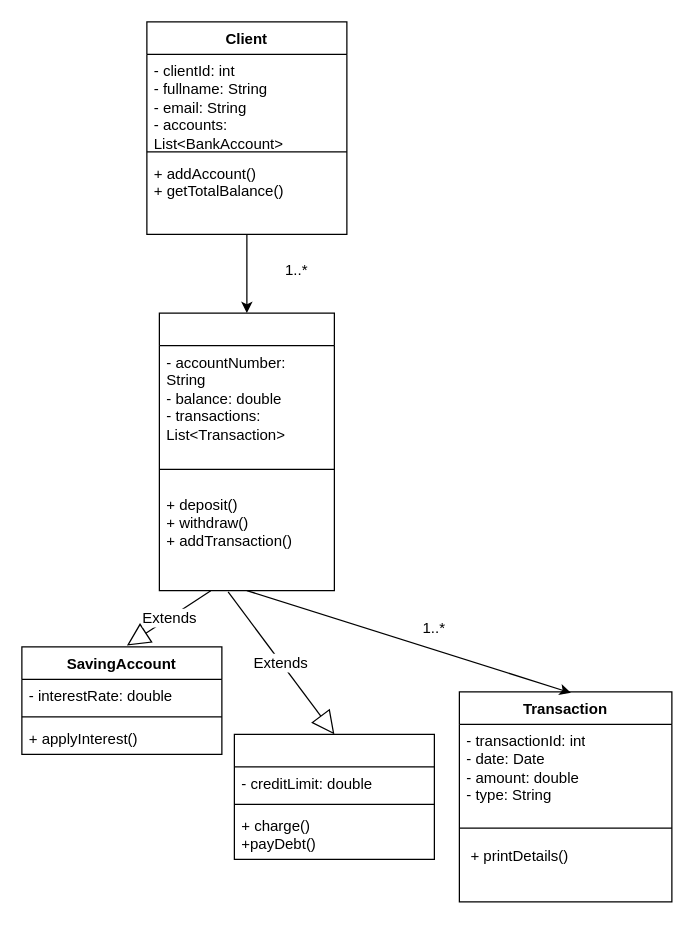
The diagram is 694 pixels wide and 928 high, and some of its shapes have lost their labels. Here are the shapes that lost their labels. From the top down, the box of each, then its label:
(158, 312, 334, 591): BankAccount
(233, 733, 434, 859): CreditAccount
